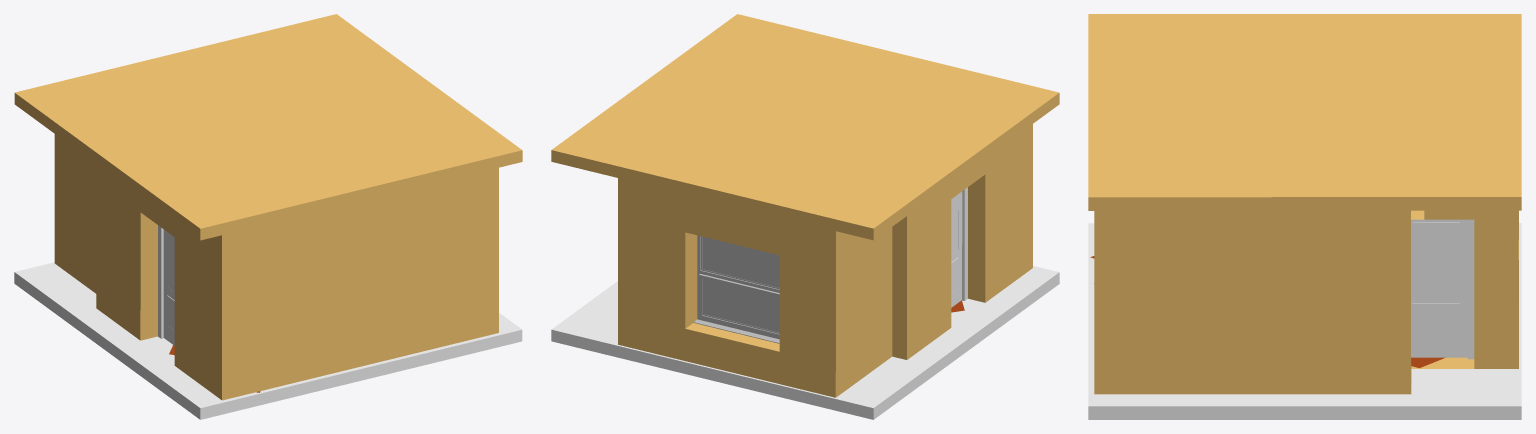
The model's file is FloorPlan15_physics.fbx.
3 renders of one model, left to right at view 1: azimuth 30°, elevation 25°; view 2: azimuth 150°, elevation 25°; view 3: azimuth 270°, elevation 25°, orthographic. The views are drawn at different scales.
Visible parts, largest first — view 1: Room.040, Ceiling, Cube.544, Door.003, DoorFrame.003; view 2: Ceiling, Room.040, Cube.544, WindowPane, Window.001, Door.003, DoorFrame.003; view 3: Ceiling, Room.040, Cube.544, Door.002, DoorFrame.002.
Part boxes in pixels (bbox=[...]): Room.040: bbox=[54, 134, 498, 400]; Ceiling: bbox=[14, 14, 522, 240]; Cube.544: bbox=[14, 262, 522, 419]; Door.003: bbox=[163, 229, 174, 345]; DoorFrame.003: bbox=[158, 225, 163, 338]; Ceiling: bbox=[551, 14, 1059, 240]; Room.040: bbox=[618, 124, 1032, 397]; Cube.544: bbox=[551, 266, 1059, 419]; WindowPane: bbox=[702, 236, 779, 332]; Window.001: bbox=[693, 235, 779, 343]; Door.003: bbox=[951, 191, 962, 307]; DoorFrame.003: bbox=[962, 187, 967, 300]; Ceiling: bbox=[1088, 14, 1521, 210]; Room.040: bbox=[1094, 210, 1518, 394]; Cube.544: bbox=[1088, 223, 1521, 419]; Door.002: bbox=[1411, 219, 1467, 357]; DoorFrame.002: bbox=[1467, 219, 1474, 359].
Size of the model in its own units: 546 by 310 by 546.
